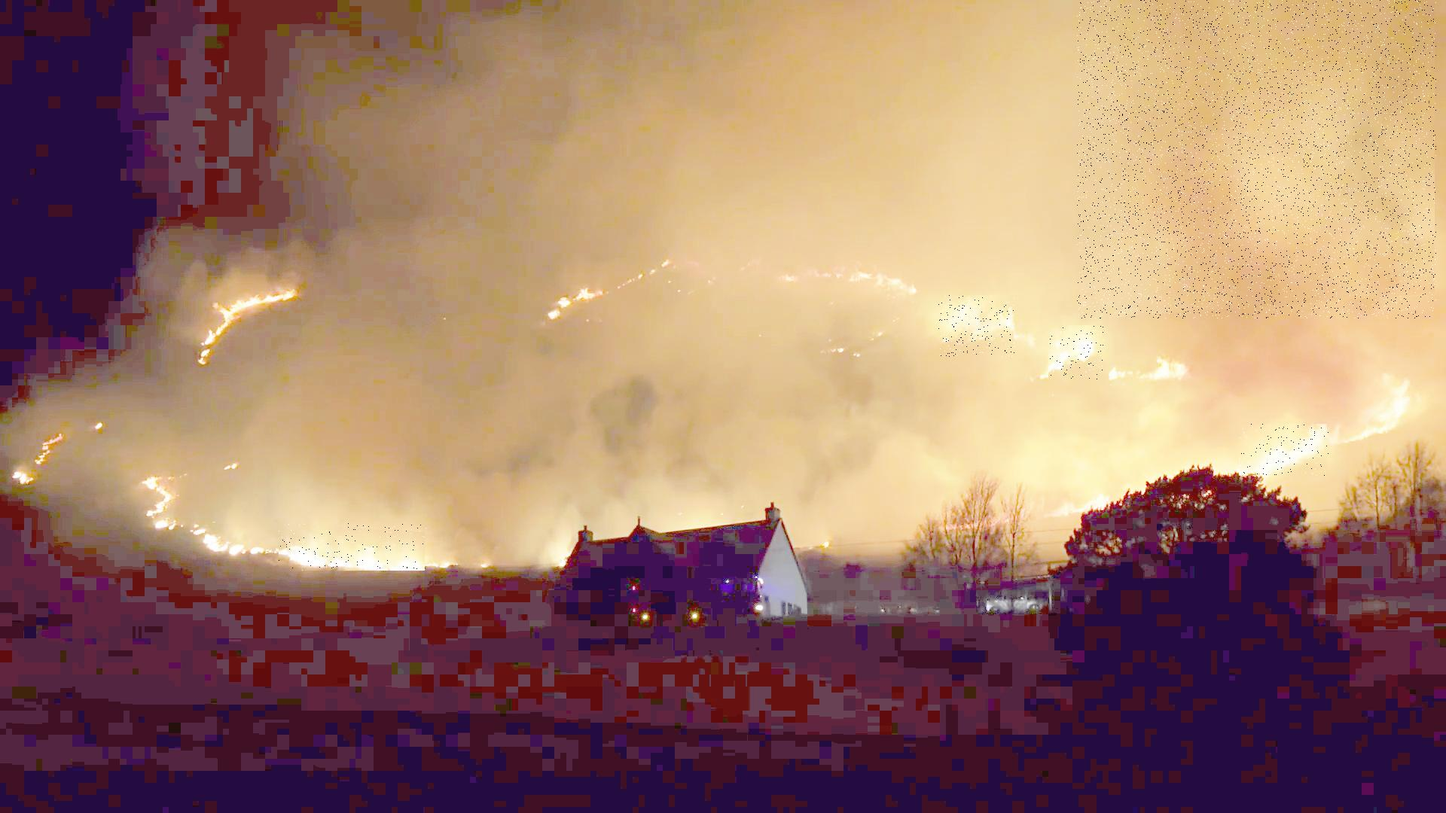fire: (279, 524, 427, 571), (938, 296, 1015, 357), (1239, 424, 1329, 476), (1049, 326, 1104, 380)
smoke: (1078, 0, 1437, 318)
